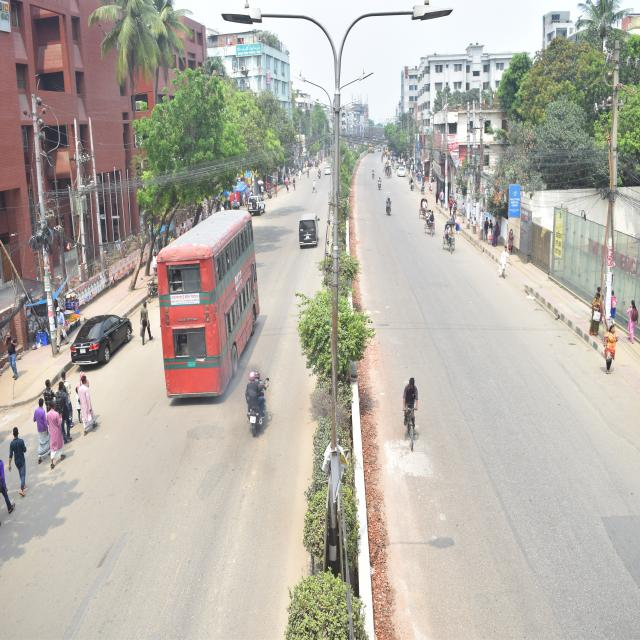bus: (153, 203, 263, 417)
car: (55, 292, 151, 381), (246, 189, 273, 223), (395, 164, 412, 187), (322, 162, 336, 180)
microbus: (290, 199, 326, 253)
motorbike: (234, 362, 278, 439), (382, 195, 397, 220), (376, 176, 386, 193), (368, 165, 377, 182), (314, 167, 324, 180)
